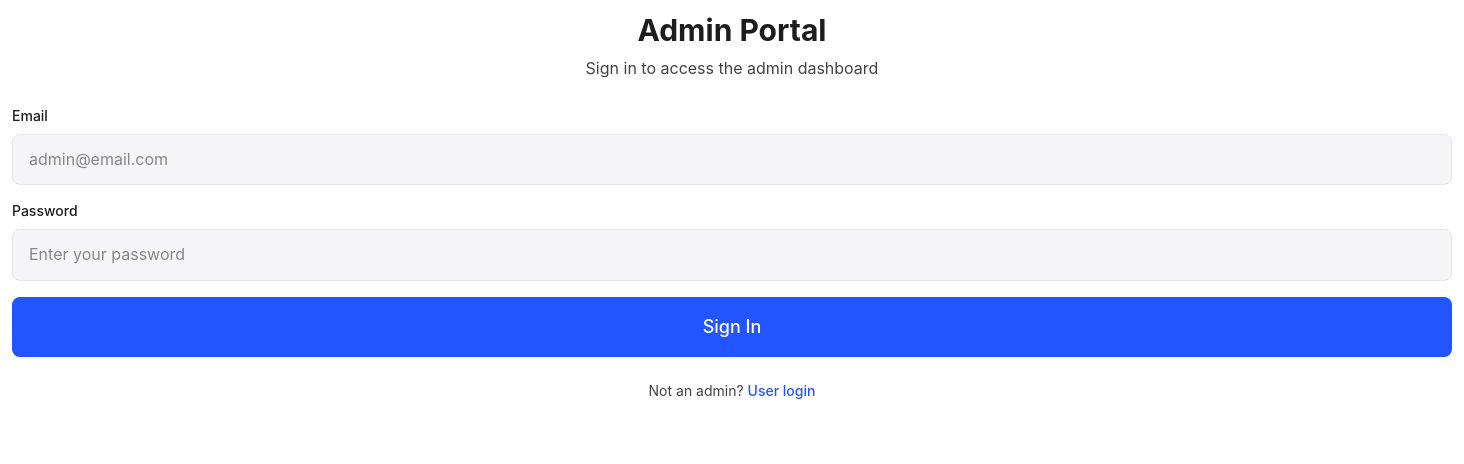
Test: AdminLogin Form › Form Validation › should show password validation error when password is too short
Type "123" into the password field with placeholder "Enter your password".
click(732, 255); type("123")  # box [12,229,1452,281]
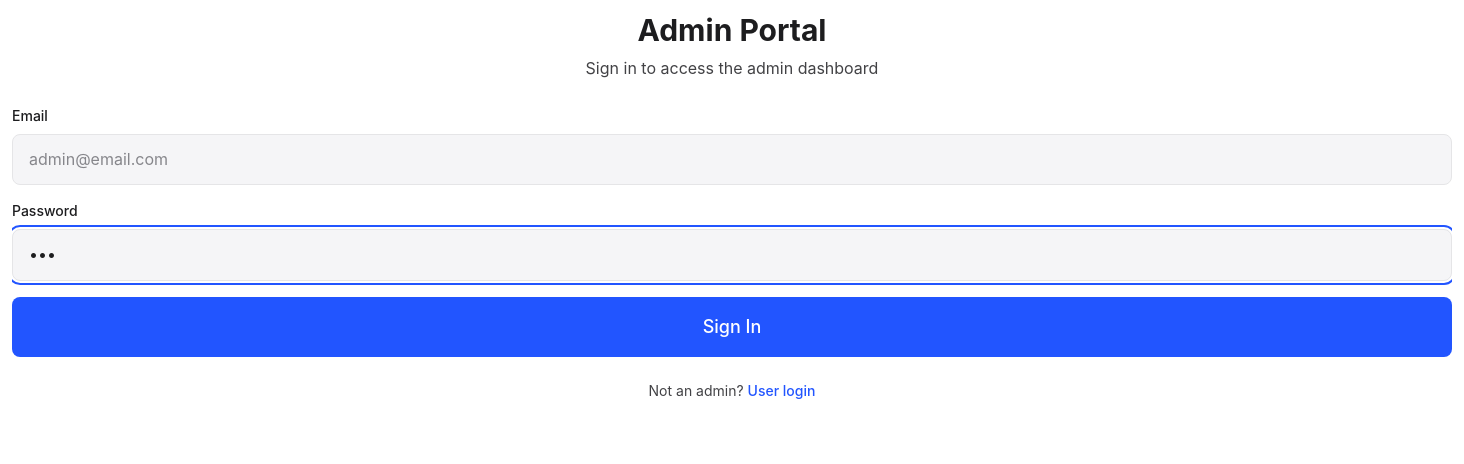
Click the button "Sign In".
click(732, 327)  # box [12,297,1452,357]
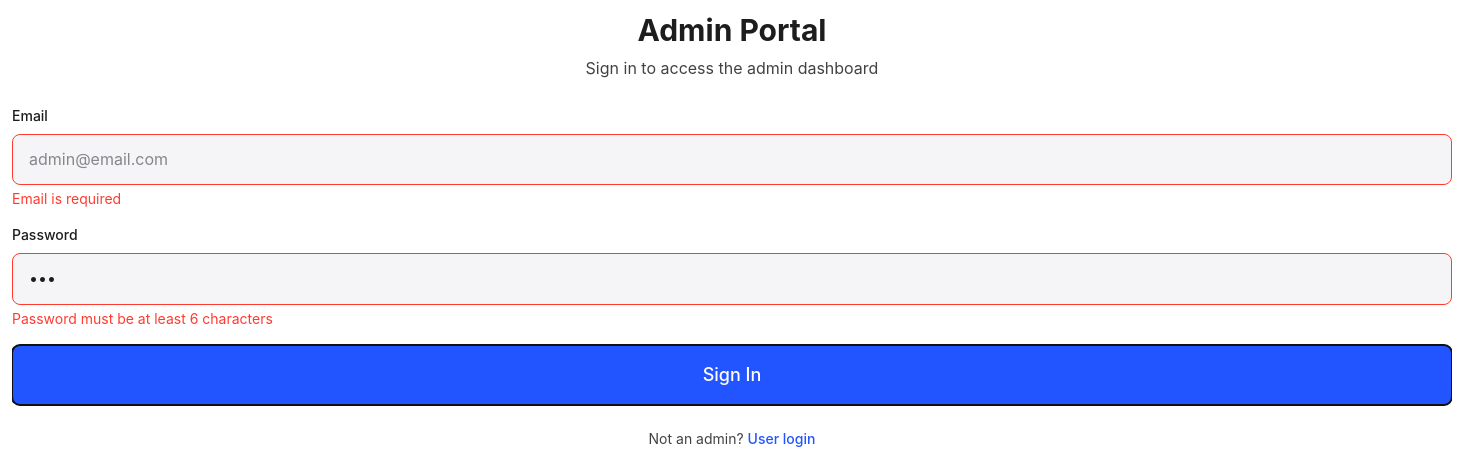
Expected: the text "Password must be at least 6 characters" is shown, [12,310,273,327]
